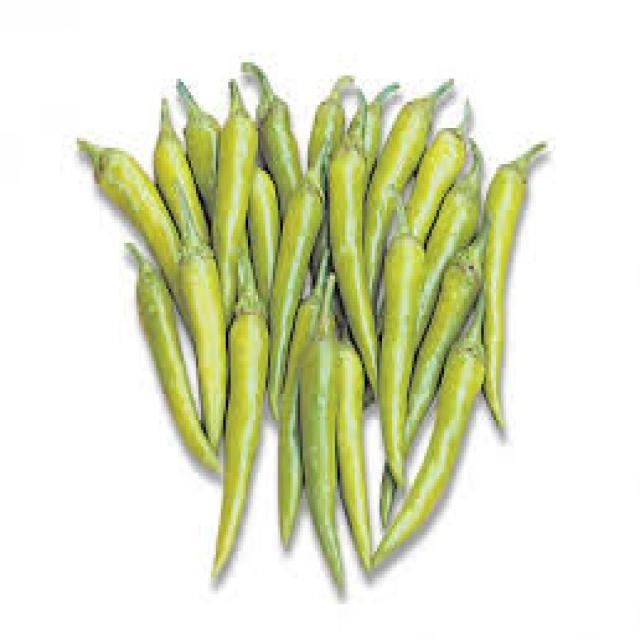green chilli: (127, 243, 221, 473), (213, 246, 270, 579), (365, 82, 453, 297), (486, 144, 547, 428), (79, 141, 181, 297), (330, 95, 380, 389), (270, 154, 325, 418), (300, 276, 345, 589), (380, 203, 427, 489), (213, 79, 258, 323), (407, 105, 471, 246)
